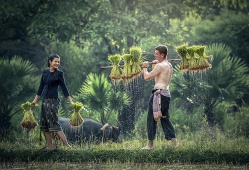female: (46, 52, 64, 72)
male: (153, 47, 170, 64)
